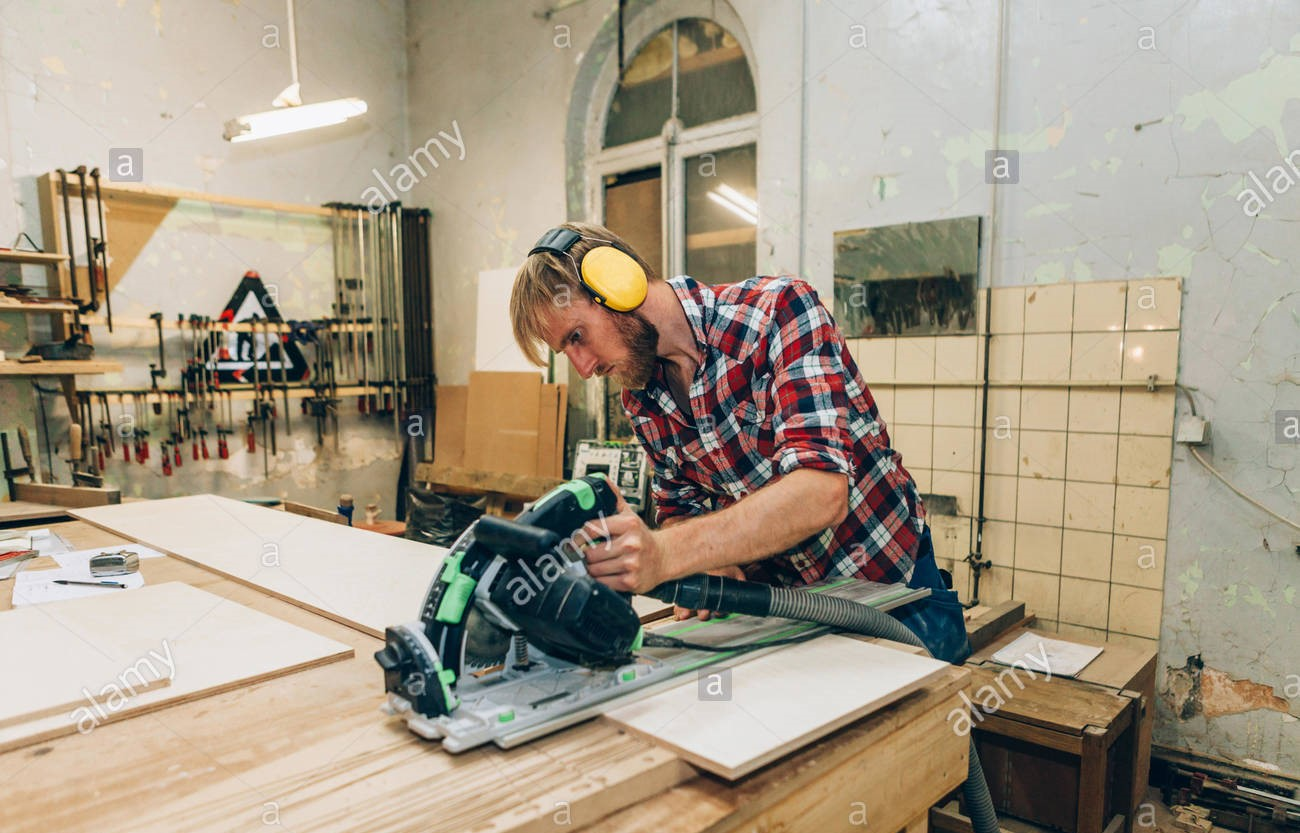noepi: (506, 216, 985, 654)
